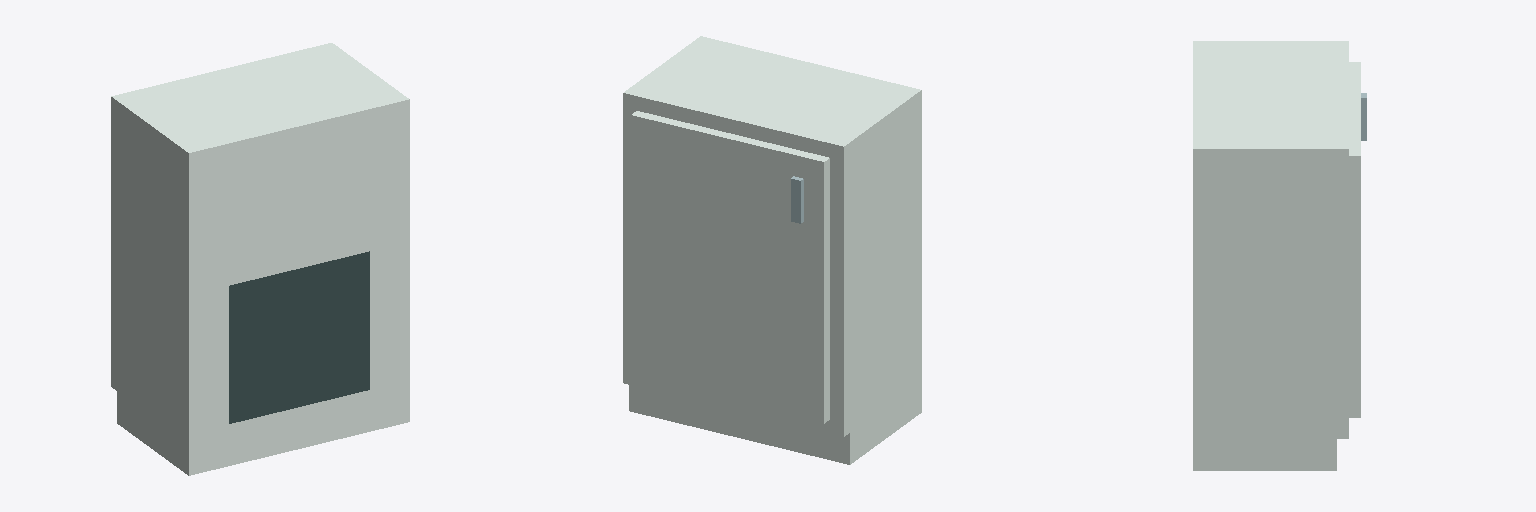
3 renders of one model, left to right at view 1: azimuth 30°, elevation 25°; view 2: azimuth 150°, elevation 25°; view 3: azimuth 270°, elevation 25°, orthographic.
Parts seen in each view (by area): view 1: kitchenFridgeSmall; view 2: kitchenFridgeSmall, doorFridge; view 3: kitchenFridgeSmall, doorFridge.
Boxes of the visible parts, box(x1,y1,x2,y2) form: kitchenFridgeSmall: box(111, 43, 409, 475); kitchenFridgeSmall: box(623, 36, 921, 464); doorFridge: box(631, 111, 829, 423); kitchenFridgeSmall: box(1193, 41, 1348, 470); doorFridge: box(1349, 62, 1366, 417).
Size of the model in its own units: 0.7164 by 1 by 0.4864.